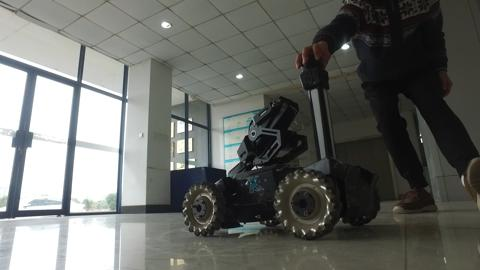chariot: (174, 51, 394, 248)
